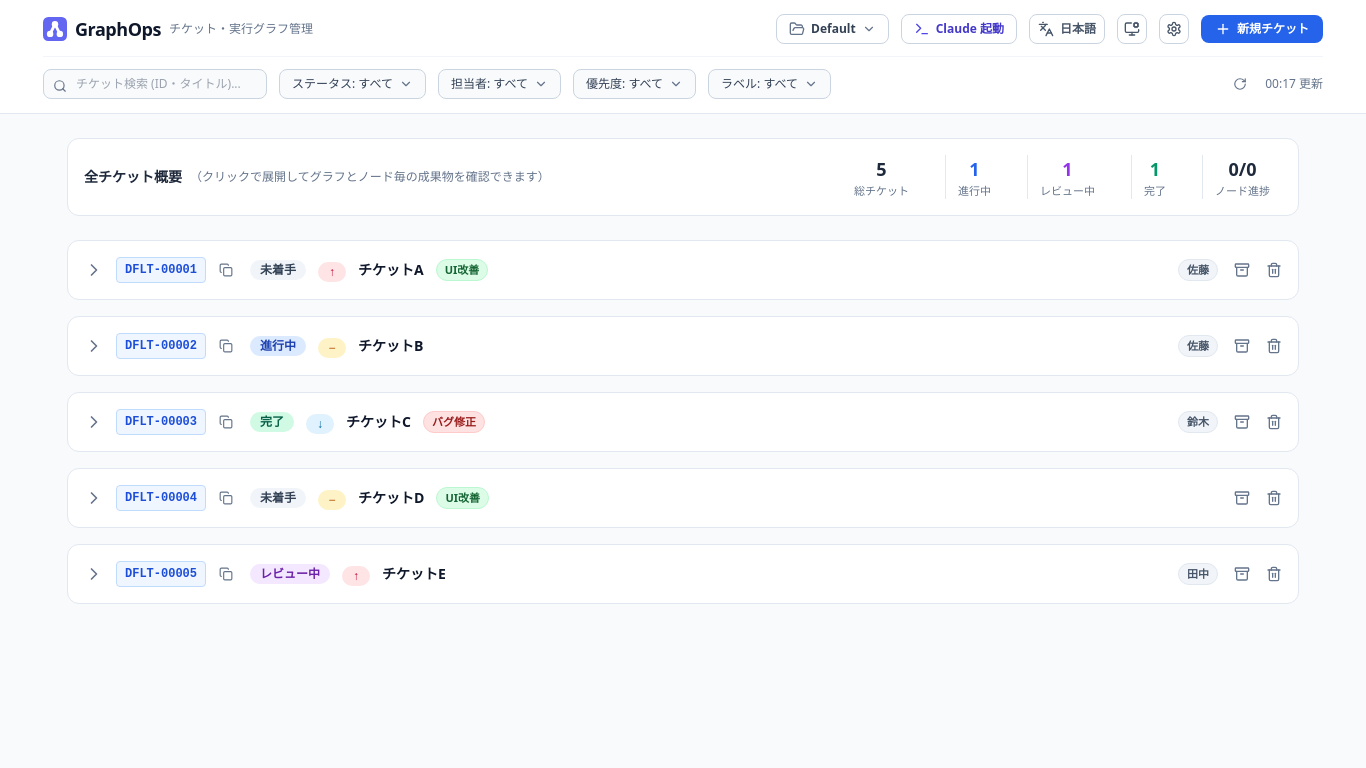
Test case: App toolbar filters › the same control four times › gives the priority filter the shared ARIA wiring
Expected: the text "DFLT-00001" is shown, [116,257,206,283]
What coordinates should you click on to do the following:
click the button "優先度: すべて"
I would click on:
 (635, 84)
Its box is [573,69,696,99].
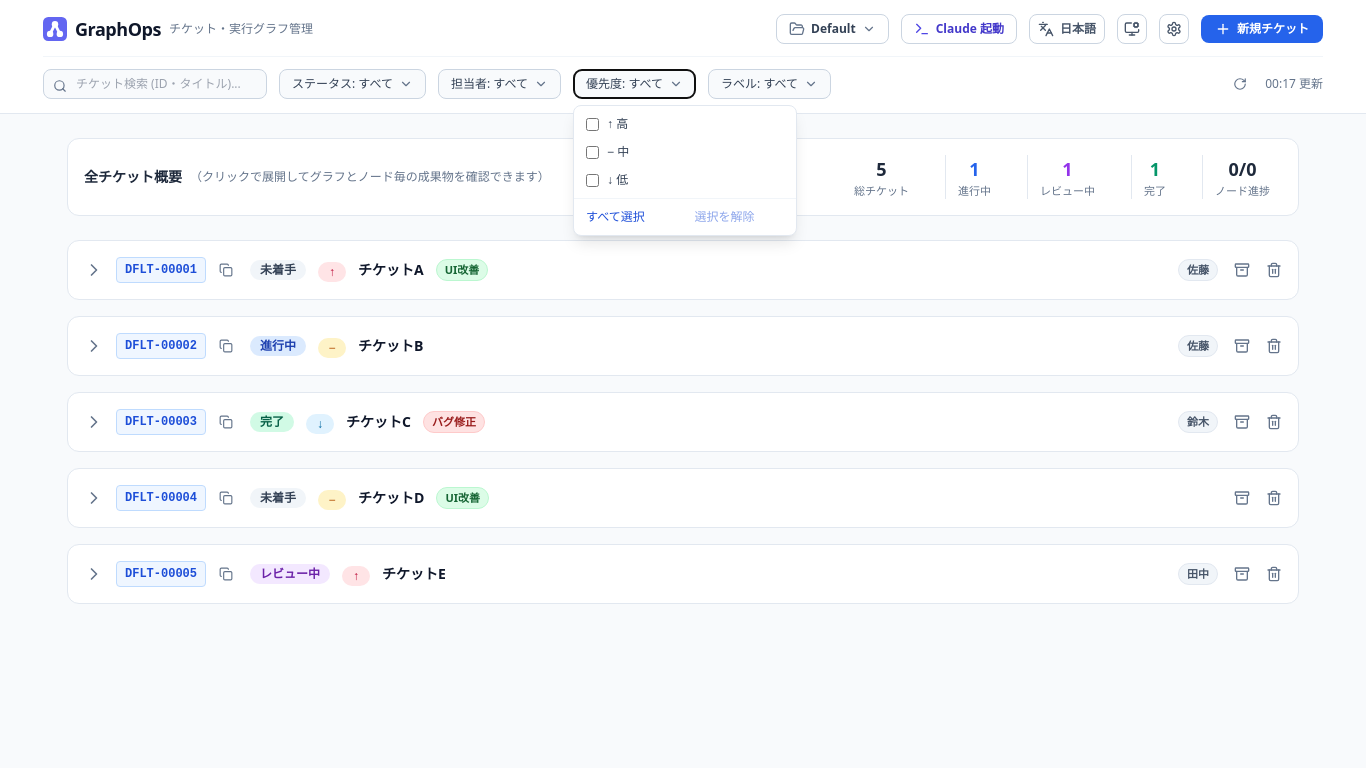
Expected: the element named "優先度で絞り込む" is shown, [573,105,797,236]
